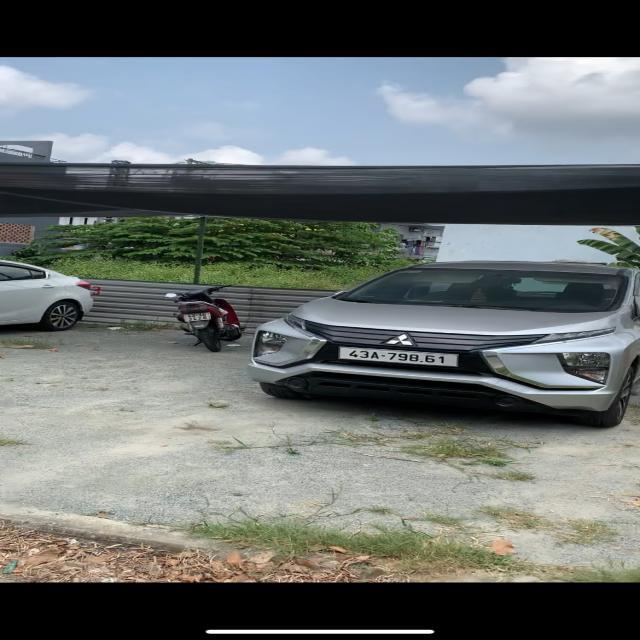car: (251, 253, 638, 422), (0, 245, 96, 337)
motorcycle: (172, 294, 241, 353)
plate: (334, 342, 463, 372), (183, 308, 216, 328)
